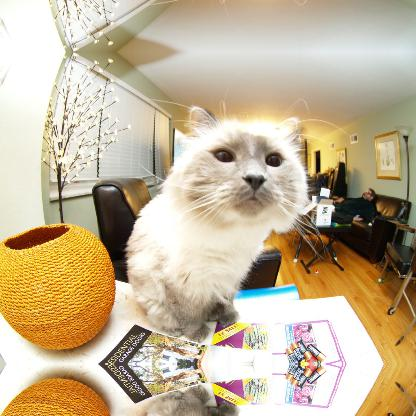Cat: (124, 76, 350, 340)
